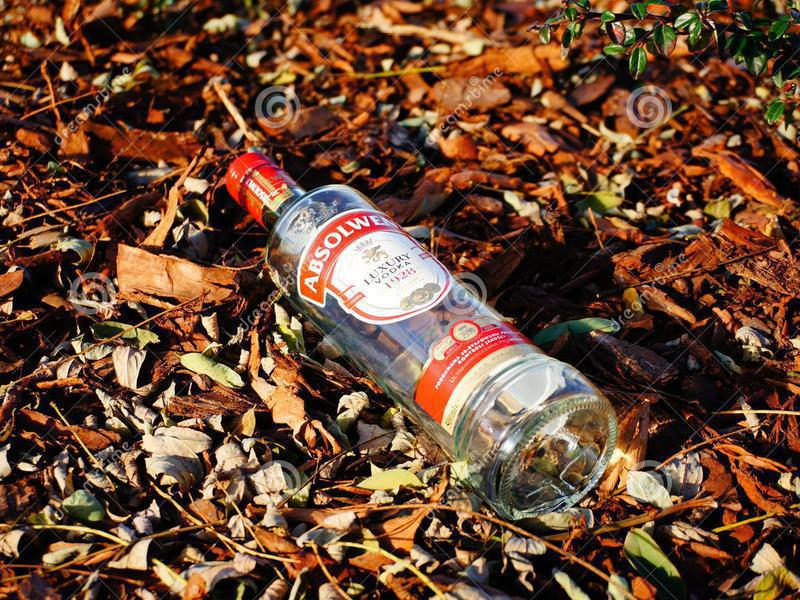bottle: (216, 145, 624, 524)
